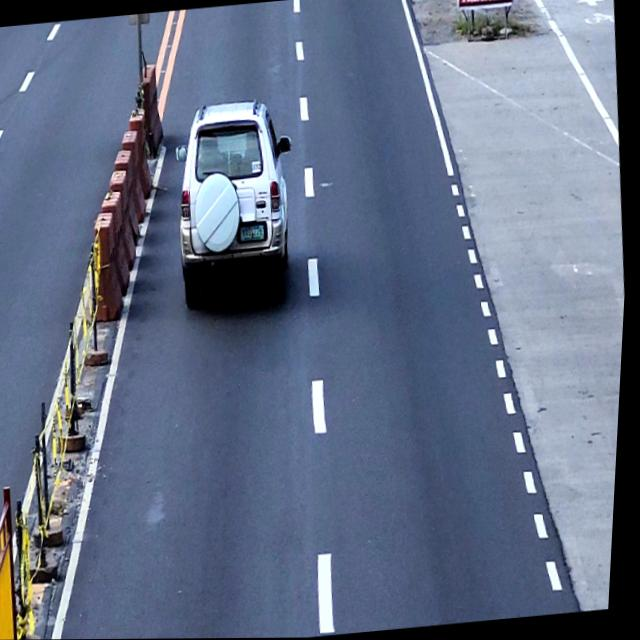Car: (167, 97, 308, 311)
License-Plate: (242, 225, 267, 243)
